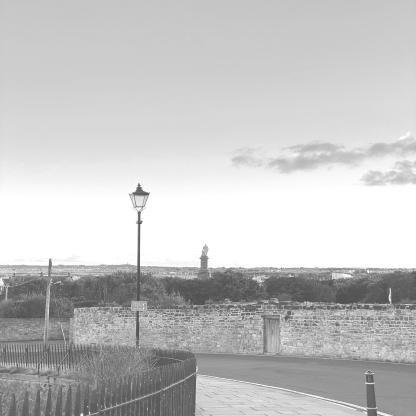light_pole: (126, 184, 151, 362)
